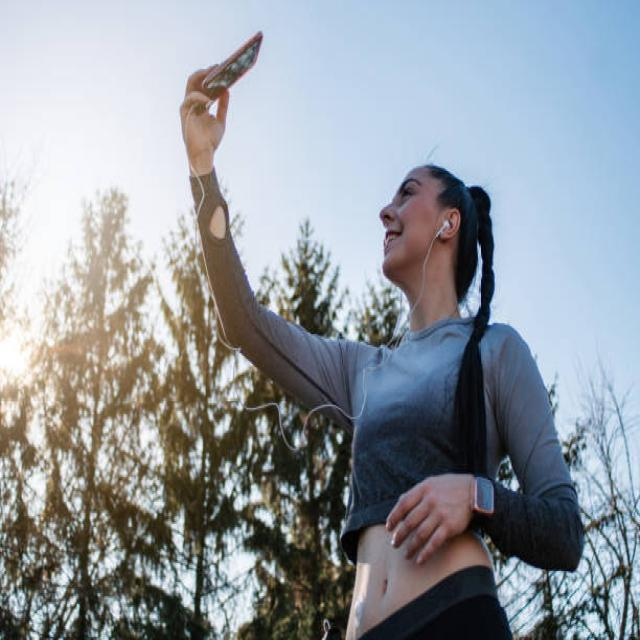Earphone: (195, 217, 451, 453)
